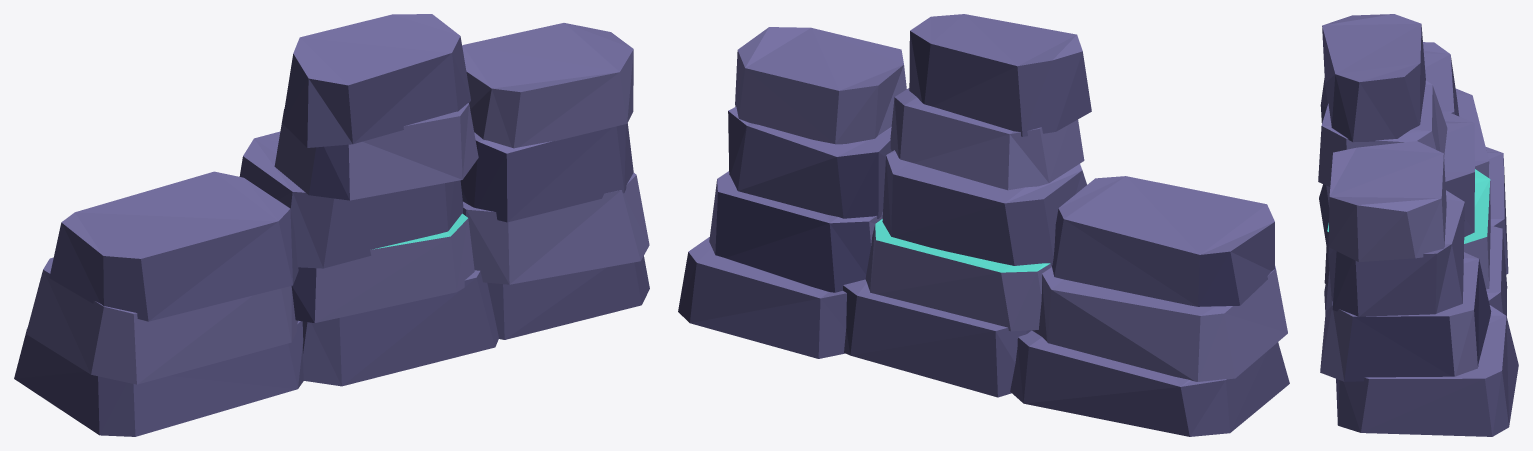
Rendered from rock_wall_deep.fbx.
3 renders of one model, left to right at view 1: azimuth 30°, elevation 25°; view 2: azimuth 150°, elevation 25°; view 3: azimuth 270°, elevation 25°, orthographic. The views are drawn at different scales.
Parts seen in each view (by area): view 1: rock_wall_deep; view 2: rock_wall_deep; view 3: rock_wall_deep.
Part boxes in pixels (x1=…): rock_wall_deep: x1=14, y1=14, x2=649, y2=436; rock_wall_deep: x1=678, y1=14, x2=1289, y2=436; rock_wall_deep: x1=1318, y1=14, x2=1518, y2=436.
Size of the model in its own units: 3588 by 1844 by 1218.
Materials: 1 (1 with a texture image).
